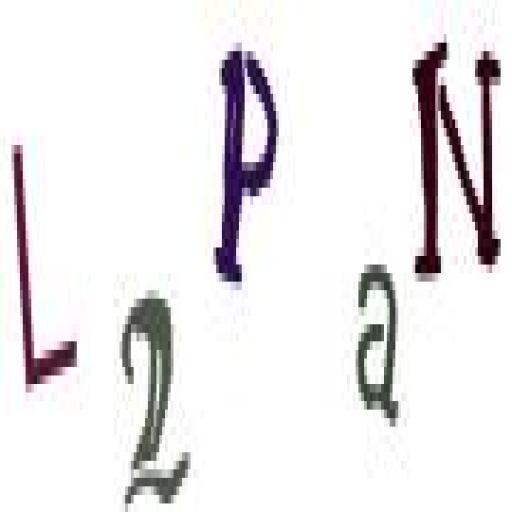2: (115, 283, 193, 510)
L: (6, 132, 83, 400)
N: (411, 36, 505, 297)
P: (214, 31, 280, 298)
a: (351, 246, 406, 435)
